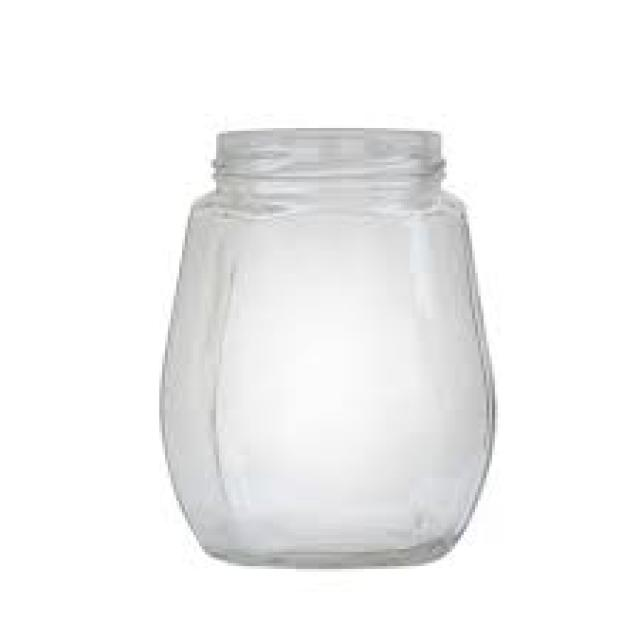glass: (156, 125, 498, 563)
